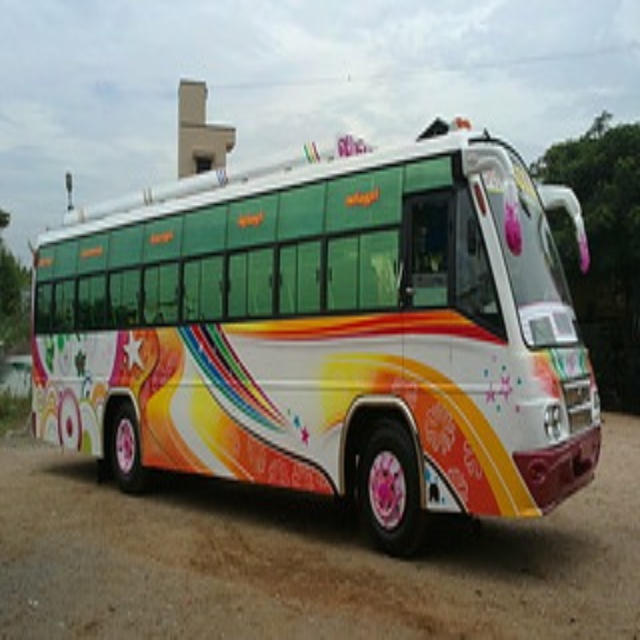Bus: (30, 124, 600, 555)
